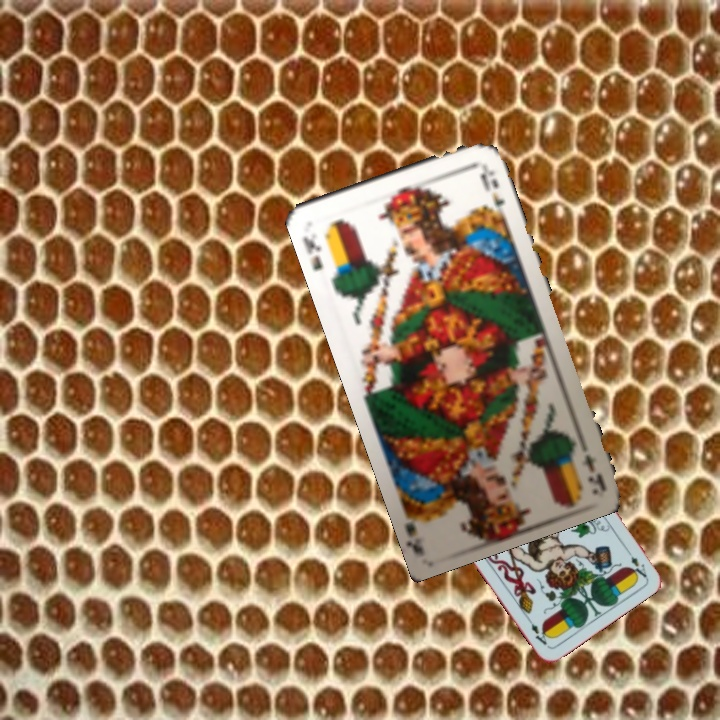EA: (621, 544, 649, 580)
EK: (573, 432, 607, 490), (299, 232, 325, 274)
